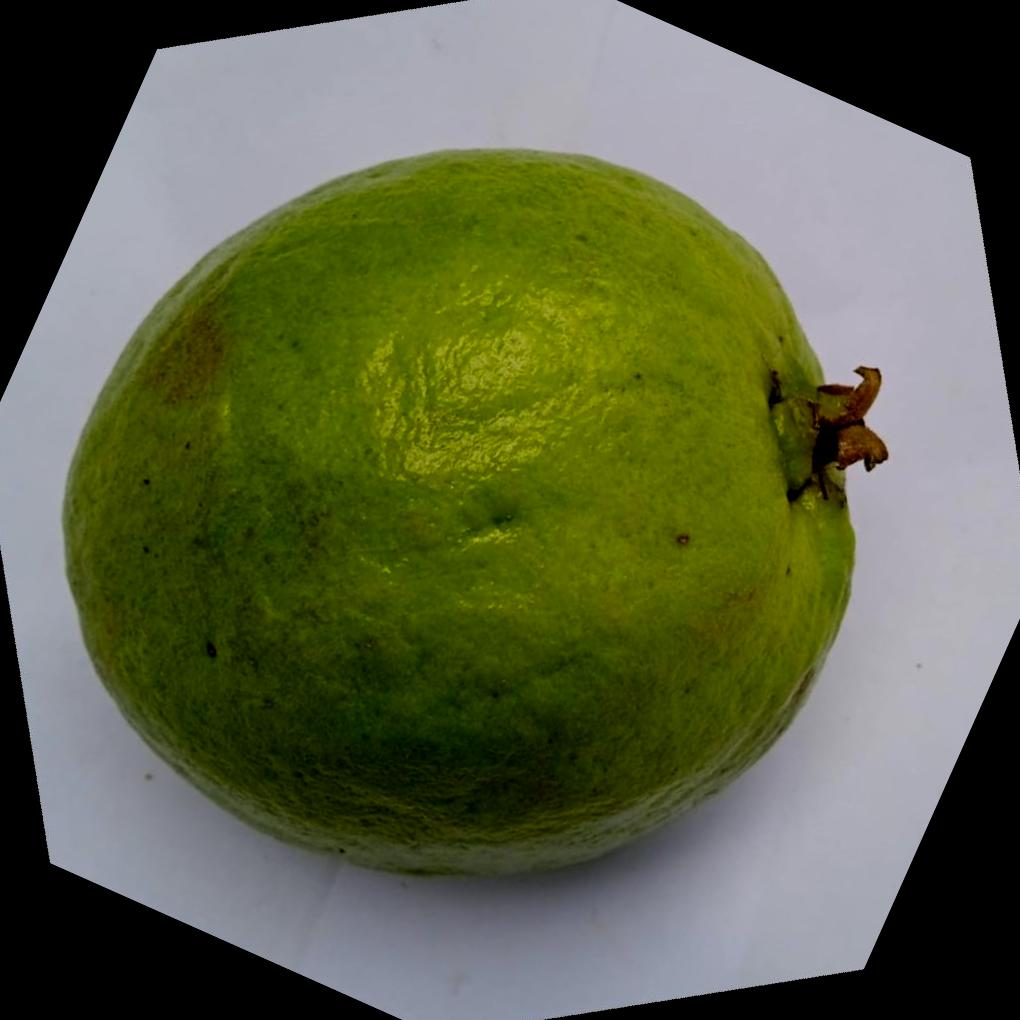FreshGuava: (62, 147, 888, 880)
